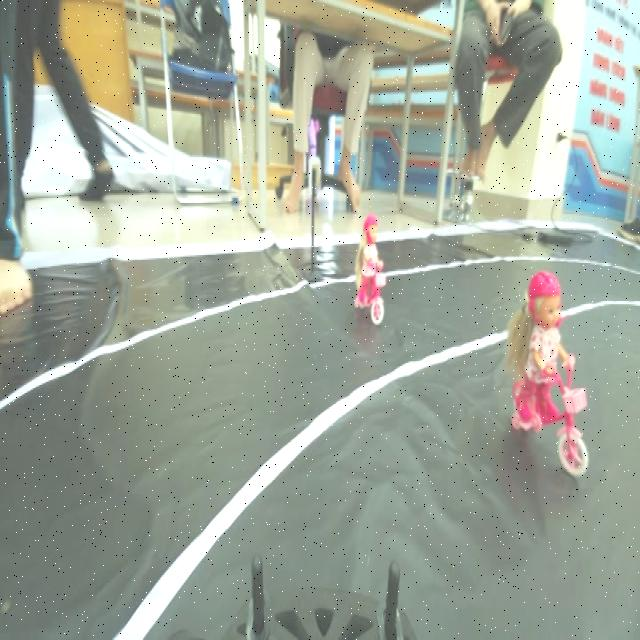pedestrian: (504, 263, 592, 467), (352, 218, 391, 314)
